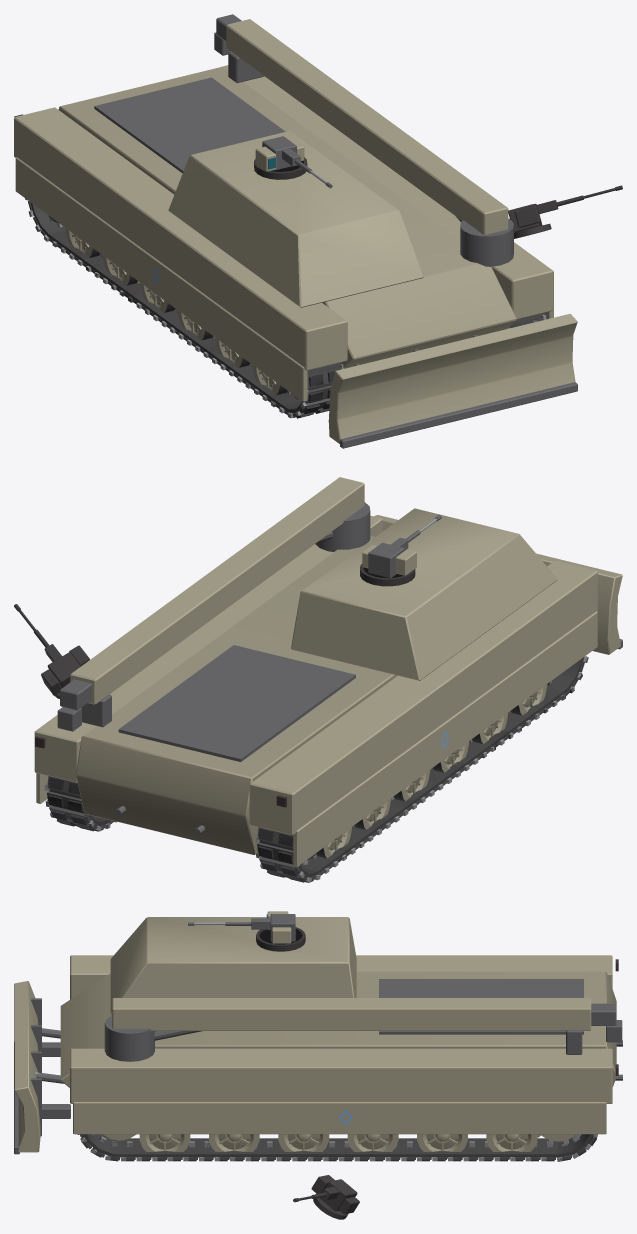
Rendered from recoveryVehicle__type_90_arv.glb.
3 views of the same model, one above another, from view 1: azimuth 30°, elevation 25°; view 2: azimuth 150°, elevation 25°; view 3: azimuth 270°, elevation 25° (orthographic). The views are drawn at different scales.
Parts seen in each view (by area): view 1: Hull_Mesh, Track_L_Mesh, Wreck, Turret_Mesh; view 2: Hull_Mesh, Track_L_Mesh, Wreck, Track_R_Mesh, Turret_Mesh; view 3: Hull_Mesh, Track_R_Mesh, Wreck, Wheel_R0_Mesh, Wheel_R3_Mesh, Wheel_R2_Mesh, Wheel_R5_Mesh, Wheel_R1_Mesh, Wheel_R4_Mesh, Turret_Mesh, Gun_Mesh.
Part boxes in pixels (x1,y1,x2,y2): Hull_Mesh: (14,14,577,448); Track_L_Mesh: (25,198,343,418); Wreck: (25,157,622,417); Turret_Mesh: (255,136,304,171); Hull_Mesh: (34,477,622,866); Track_L_Mesh: (256,656,588,882); Wreck: (14,563,588,881); Track_R_Mesh: (44,776,116,831); Turret_Mesh: (362,542,416,577); Hull_Mesh: (14,917,622,1154); Track_R_Mesh: (77,1134,597,1161); Wreck: (79,927,595,1219); Wheel_R0_Mesh: (486,1134,537,1159); Wheel_R3_Mesh: (278,1134,329,1158); Wheel_R2_Mesh: (347,1134,398,1158); Wheel_R5_Mesh: (139,1134,190,1159); Wheel_R1_Mesh: (417,1134,467,1158); Wheel_R4_Mesh: (209,1134,259,1158); Turret_Mesh: (266,911,295,943); Gun_Mesh: (188,918,270,929).
Size of what is drawn, in the model's own units: 6.38 by 2.6 by 8.25.
